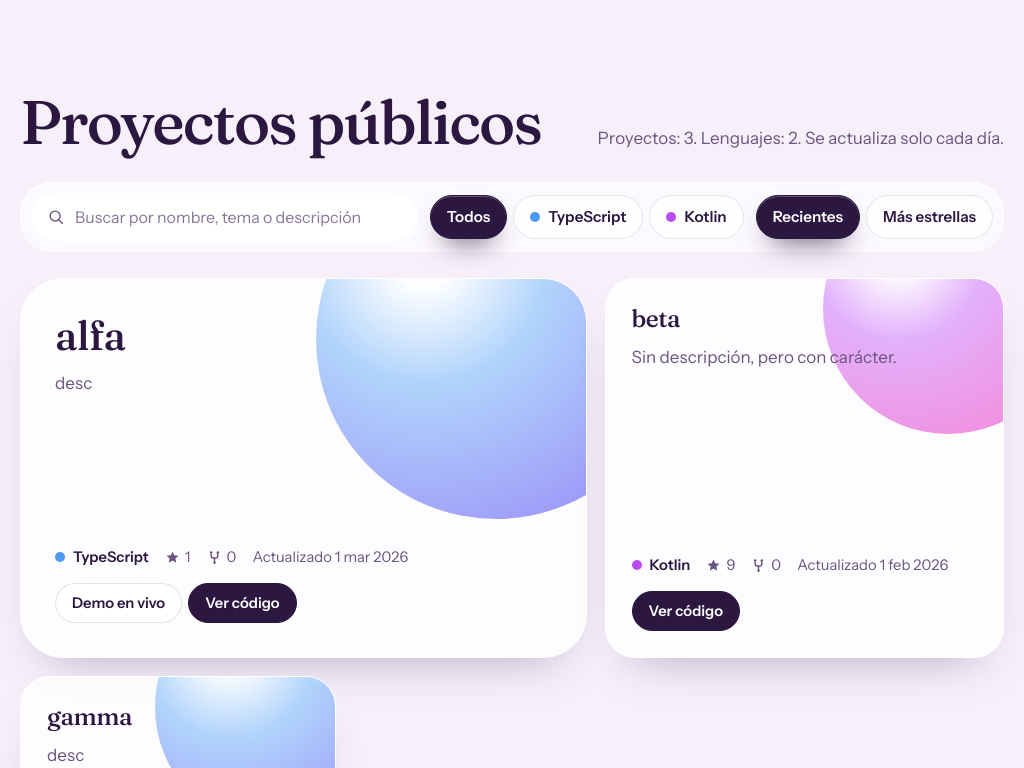
Scenario: Projects › muestra estado vacío con salida y se recupera al limpiar
Later steps or results of the test are not shown.
In the search field: (238, 217) [75, 193, 402, 241], type "zzzz"
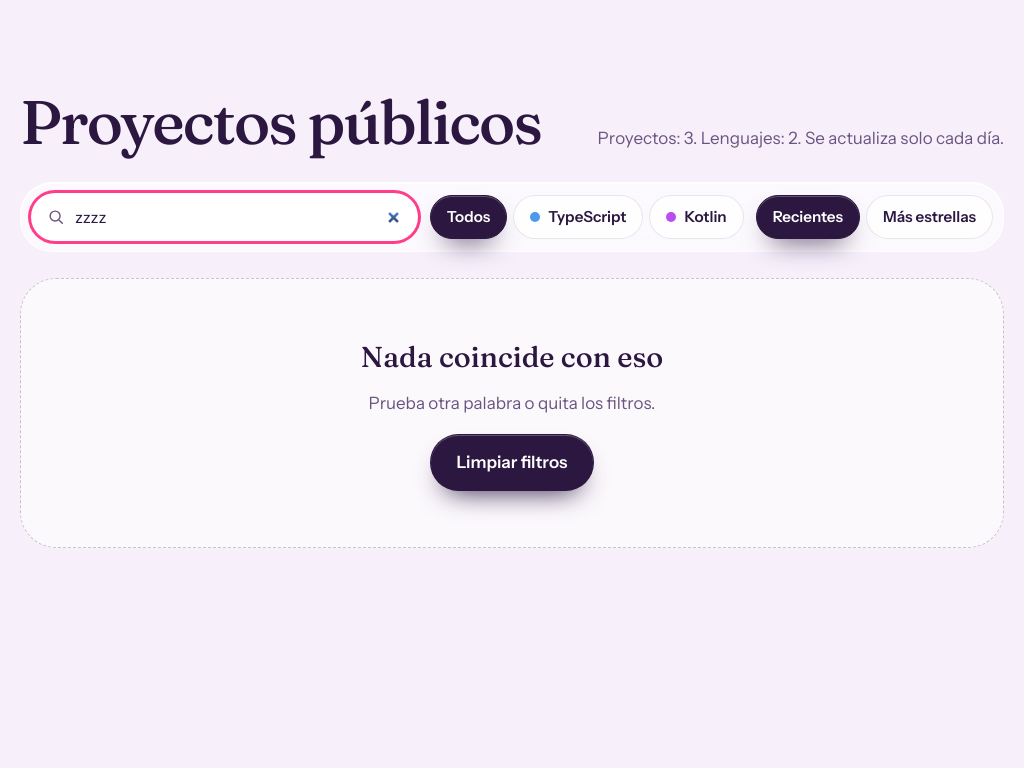
Now the heading "Nada coincide con eso" is shown, box [361, 335, 663, 380]
